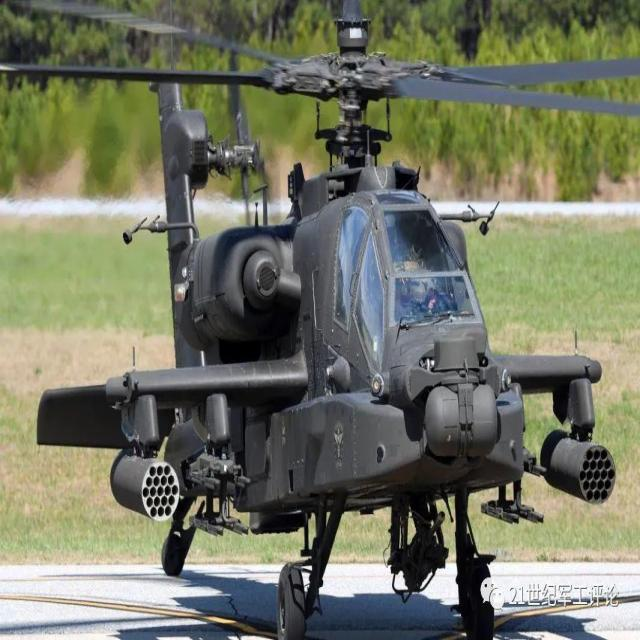MIL_HELO: (11, 0, 608, 639)
